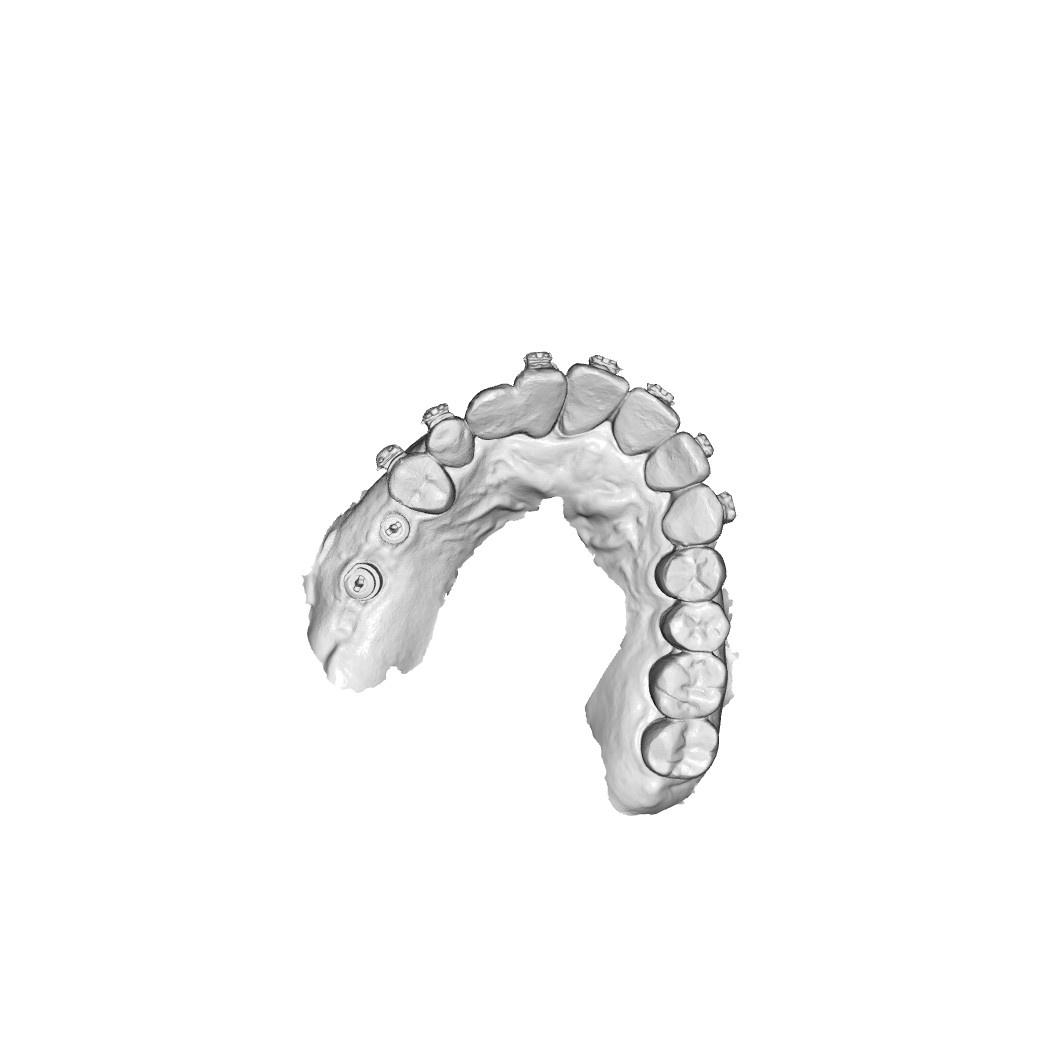canine: (659, 484, 722, 547), (425, 415, 476, 471)
implant_minus: (342, 561, 382, 601), (379, 512, 414, 543)
incisor: (615, 388, 678, 454), (566, 365, 623, 429), (468, 385, 525, 439), (643, 437, 705, 485), (522, 369, 563, 431)
molar: (640, 718, 721, 781), (650, 650, 727, 716)
premolar: (653, 546, 728, 602), (658, 601, 734, 655), (387, 452, 454, 506)
